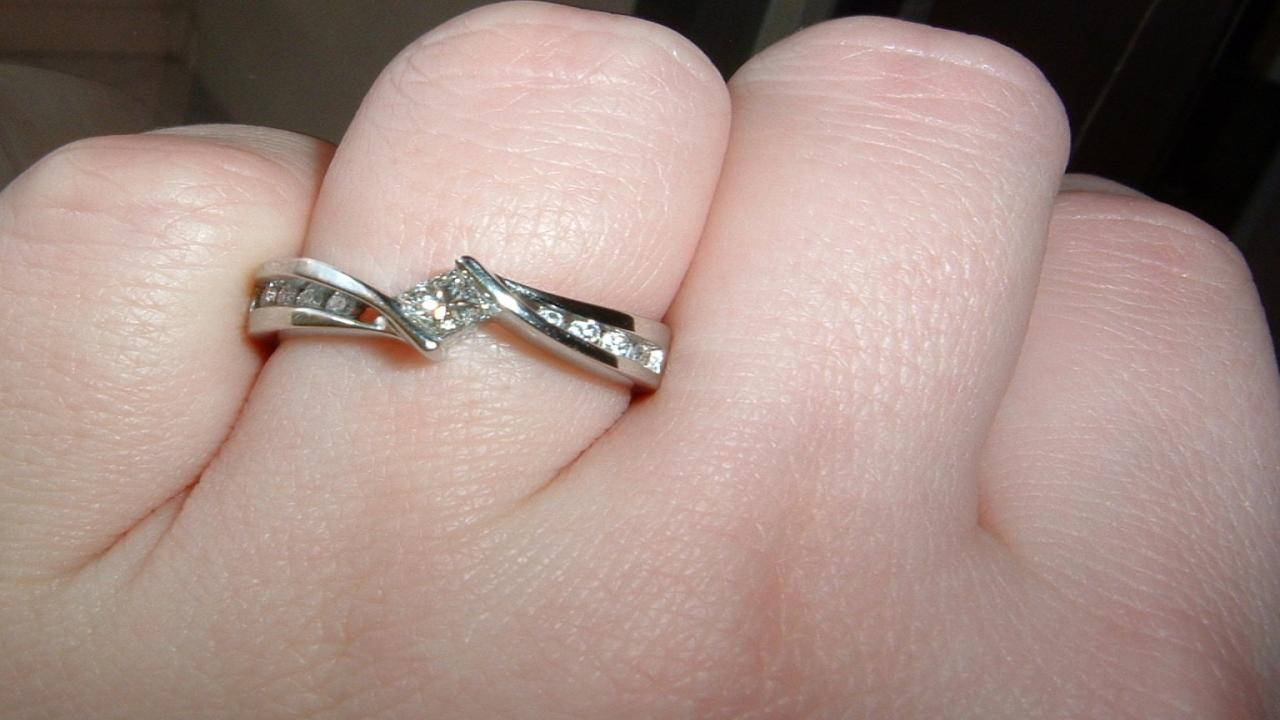ring: (247, 249, 679, 403)
